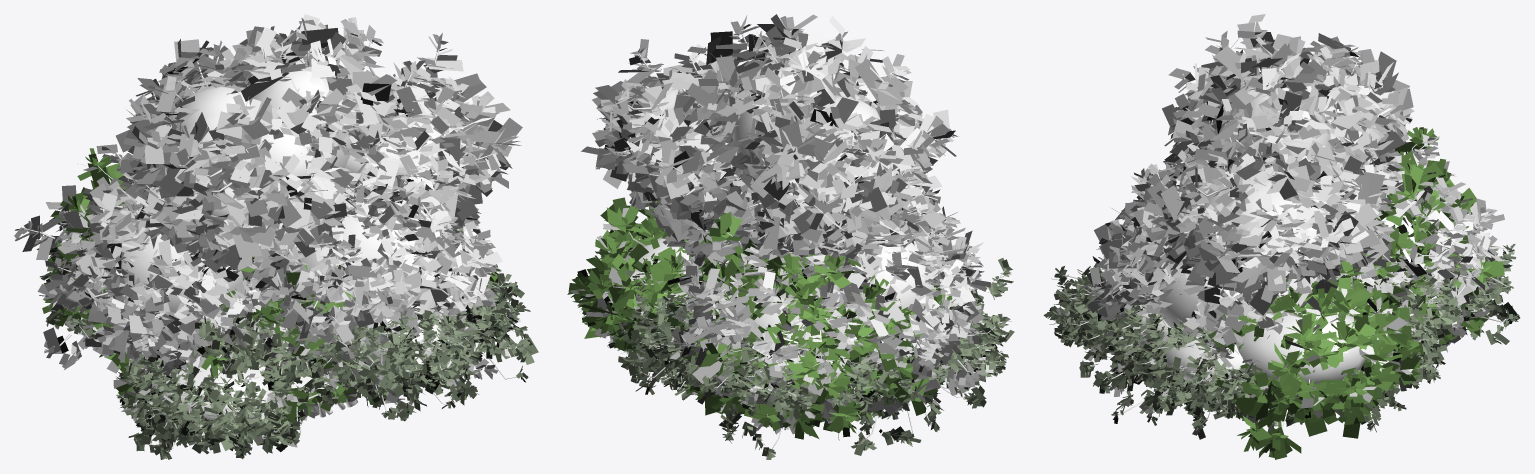
File: bushes.glb
3 renders of one model, left to right at view 1: azimuth 30°, elevation 25°; view 2: azimuth 150°, elevation 25°; view 3: azimuth 270°, elevation 25°, orthographic. The views are drawn at different scales.
Parts seen in each view (by area): view 1: BushDLeaves, BushDLeaves_lod, BushBLeaves_lod, BushBLeaves, BushELeaves_lod, BushELeaves, BushDHull, BushBHull, BushALeaves, BushEHull, BushALeaves_lod, BushFLeaves_lod (+4 smaller); view 2: BushDLeaves, BushDLeaves_lod, BushBLeaves, BushBLeaves_lod, BushALeaves, BushALeaves_lod, BushELeaves_lod, BushELeaves, BushBHull, BushDHull, BushETwigs, BushDTwigs (+1 smaller); view 3: BushDLeaves_lod, BushDLeaves, BushALeaves_lod, BushALeaves, BushBLeaves_lod, BushELeaves, BushBLeaves, BushELeaves_lod, BushAHull, BushDHull, BushBHull, BushEHull (+2 smaller).
Part boxes in pixels (x1=…): BushDLeaves: x1=117, y1=17, x2=514, y2=269; BushDLeaves_lod: x1=116, y1=14, x2=522, y2=285; BushBLeaves_lod: x1=15, y1=106, x2=502, y2=416; BushBLeaves: x1=14, y1=120, x2=498, y2=412; BushELeaves_lod: x1=40, y1=266, x2=538, y2=459; BushELeaves: x1=42, y1=264, x2=534, y2=459; BushDHull: x1=170, y1=70, x2=457, y2=226; BushBHull: x1=93, y1=200, x2=449, y2=318; BushALeaves: x1=42, y1=148, x2=497, y2=403; BushEHull: x1=139, y1=309, x2=448, y2=419; BushALeaves_lod: x1=44, y1=163, x2=500, y2=411; BushFLeaves_lod: x1=229, y1=265, x2=387, y2=422; BushDLeaves: x1=589, y1=16, x2=957, y2=256; BushDLeaves_lod: x1=581, y1=14, x2=956, y2=260; BushBLeaves: x1=664, y1=150, x2=985, y2=434; BushBLeaves_lod: x1=645, y1=148, x2=990, y2=433; BushALeaves: x1=570, y1=202, x2=954, y2=439; BushALeaves_lod: x1=567, y1=181, x2=946, y2=440; BushELeaves_lod: x1=607, y1=229, x2=1014, y2=459; BushELeaves: x1=607, y1=230, x2=1011, y2=457; BushBHull: x1=726, y1=236, x2=936, y2=350; BushDHull: x1=645, y1=66, x2=899, y2=202; BushETwigs: x1=624, y1=263, x2=1005, y2=448; BushDTwigs: x1=610, y1=30, x2=930, y2=245; BushDLeaves_lod: x1=1145, y1=14, x2=1414, y2=315; BushDLeaves: x1=1151, y1=16, x2=1411, y2=307; BushALeaves_lod: x1=1198, y1=142, x2=1508, y2=459; BushALeaves: x1=1221, y1=127, x2=1508, y2=457; BushBLeaves_lod: x1=1086, y1=136, x2=1504, y2=384; BushELeaves: x1=1046, y1=214, x2=1518, y2=435; BushBLeaves: x1=1081, y1=134, x2=1501, y2=396; BushELeaves_lod: x1=1043, y1=216, x2=1519, y2=439; BushAHull: x1=1235, y1=307, x2=1368, y2=383; BushDHull: x1=1200, y1=80, x2=1339, y2=234; BushBHull: x1=1145, y1=194, x2=1415, y2=335; BushEHull: x1=1133, y1=295, x2=1438, y2=380.
Size of what is drawn, in the model's own units: 4.33 by 3.99 by 4.37.
